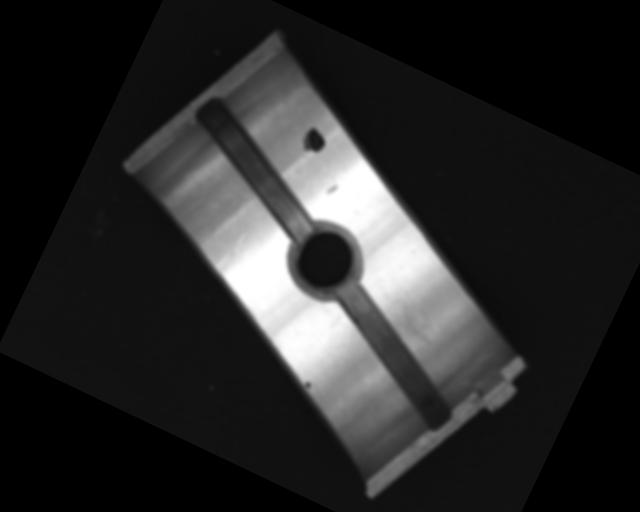blot: (298, 124, 331, 158), (301, 378, 314, 391)
bruise: (212, 225, 250, 276), (324, 179, 338, 197)
gap: (302, 278, 484, 432), (168, 94, 344, 242)
hole: (278, 212, 373, 309)
scratch: (373, 282, 465, 359)
